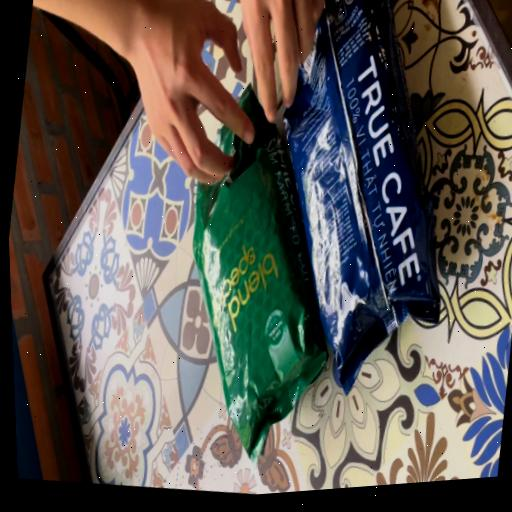cafe_hat: (284, 0, 440, 393)
cafe_xay: (193, 92, 327, 462)
